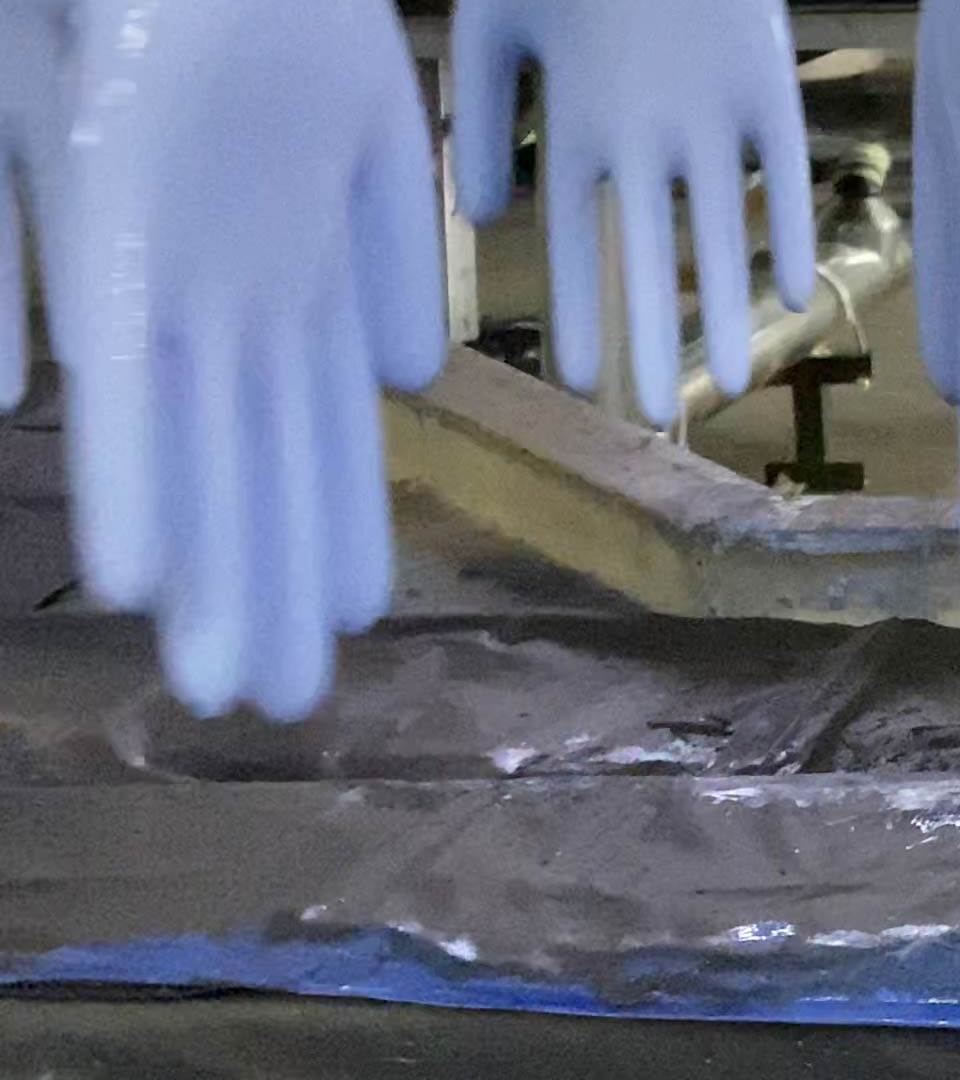glove: (35, 1, 443, 720), (449, 1, 827, 419)
